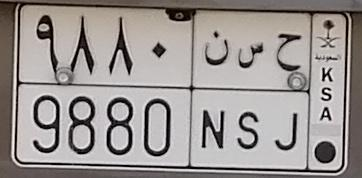0: (142, 41, 173, 157)
8: (105, 15, 135, 156), (68, 14, 96, 154)
9: (31, 13, 61, 154)
J: (274, 31, 303, 152)
N: (200, 30, 230, 152)
S: (237, 41, 263, 150)
